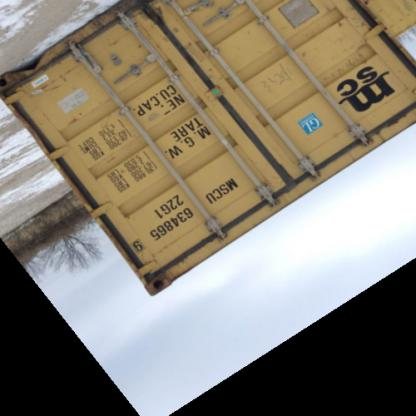Damage: (129, 240, 213, 301), (0, 54, 68, 102), (86, 13, 164, 38)
